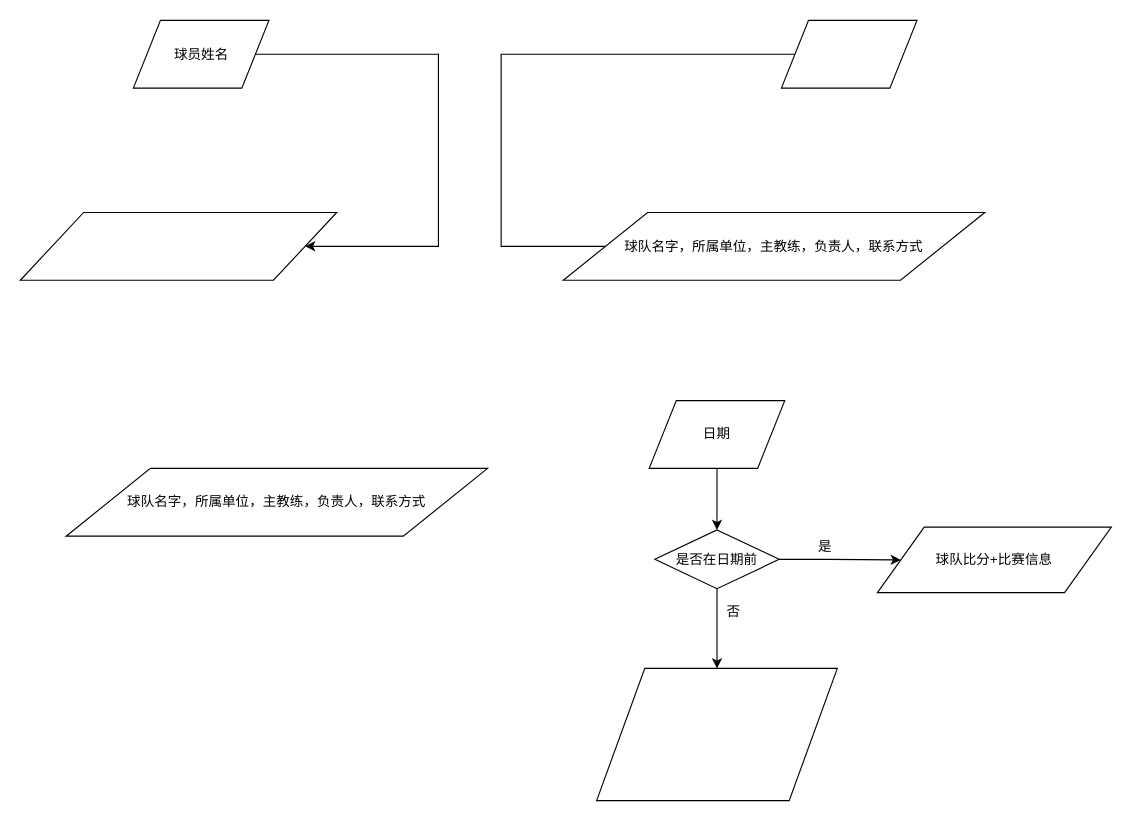
This 1131x820 diagram has some shape labels left out. The box of each missing label's shape, as (x1, y1, x2, y2) in pixels:
比赛信息: (596, 667, 837, 801)
球员号码，名字，所属队伍，位置: (19, 211, 337, 280)
球队名: (780, 19, 917, 88)
